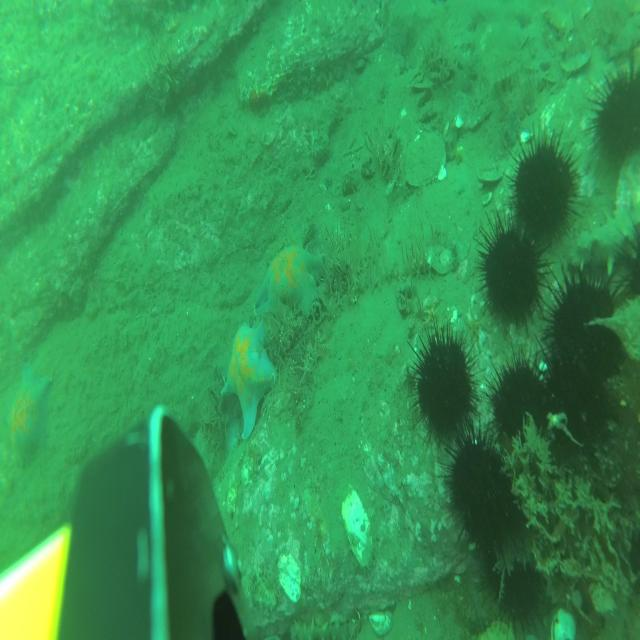echinus: (474, 203, 550, 342), (506, 122, 583, 257), (410, 314, 478, 449), (540, 340, 608, 470), (551, 262, 619, 388), (442, 424, 509, 546), (488, 340, 548, 469), (486, 527, 550, 640), (590, 54, 640, 175), (614, 216, 640, 327), (620, 525, 640, 606)
holothurian: (568, 205, 640, 276), (291, 616, 359, 640)
scallop: (404, 132, 446, 186), (426, 242, 455, 276)
starfish: (221, 318, 277, 442), (5, 358, 52, 477), (253, 241, 323, 320)
